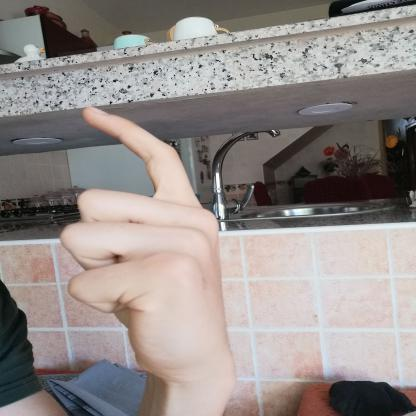RAA: (47, 96, 247, 383)
